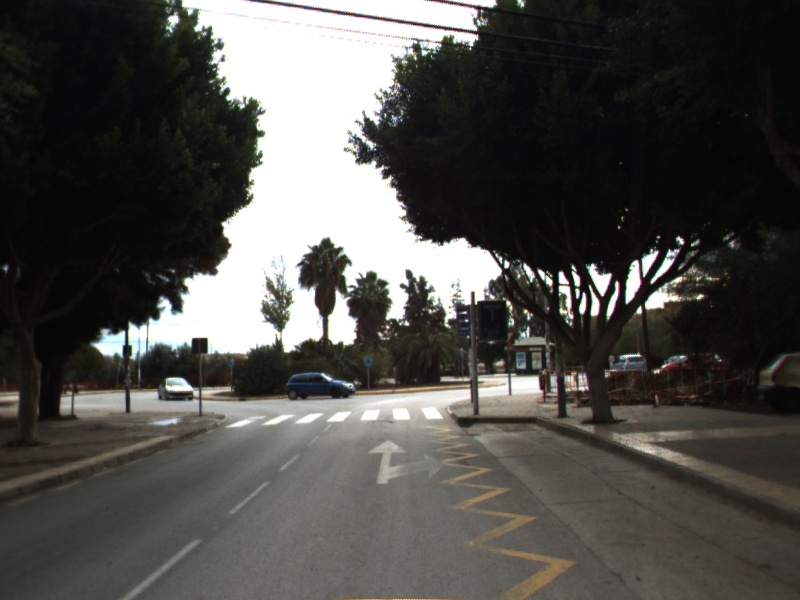STRAIGHT_RIGHT: (365, 437, 447, 487)
